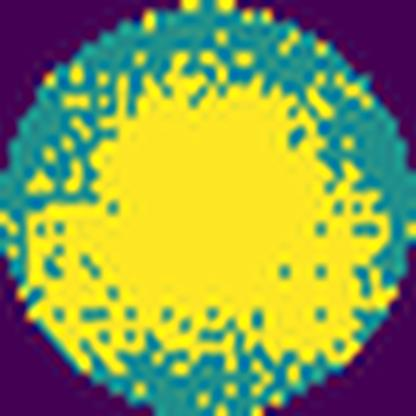Loc: (21, 74, 395, 380)
